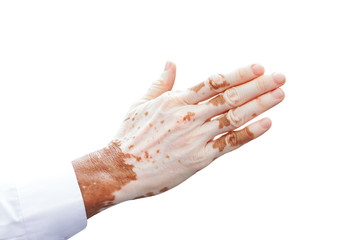vitiligo: (106, 96, 241, 172)
